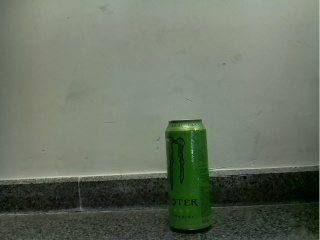botella plastico: (164, 118, 213, 231)
